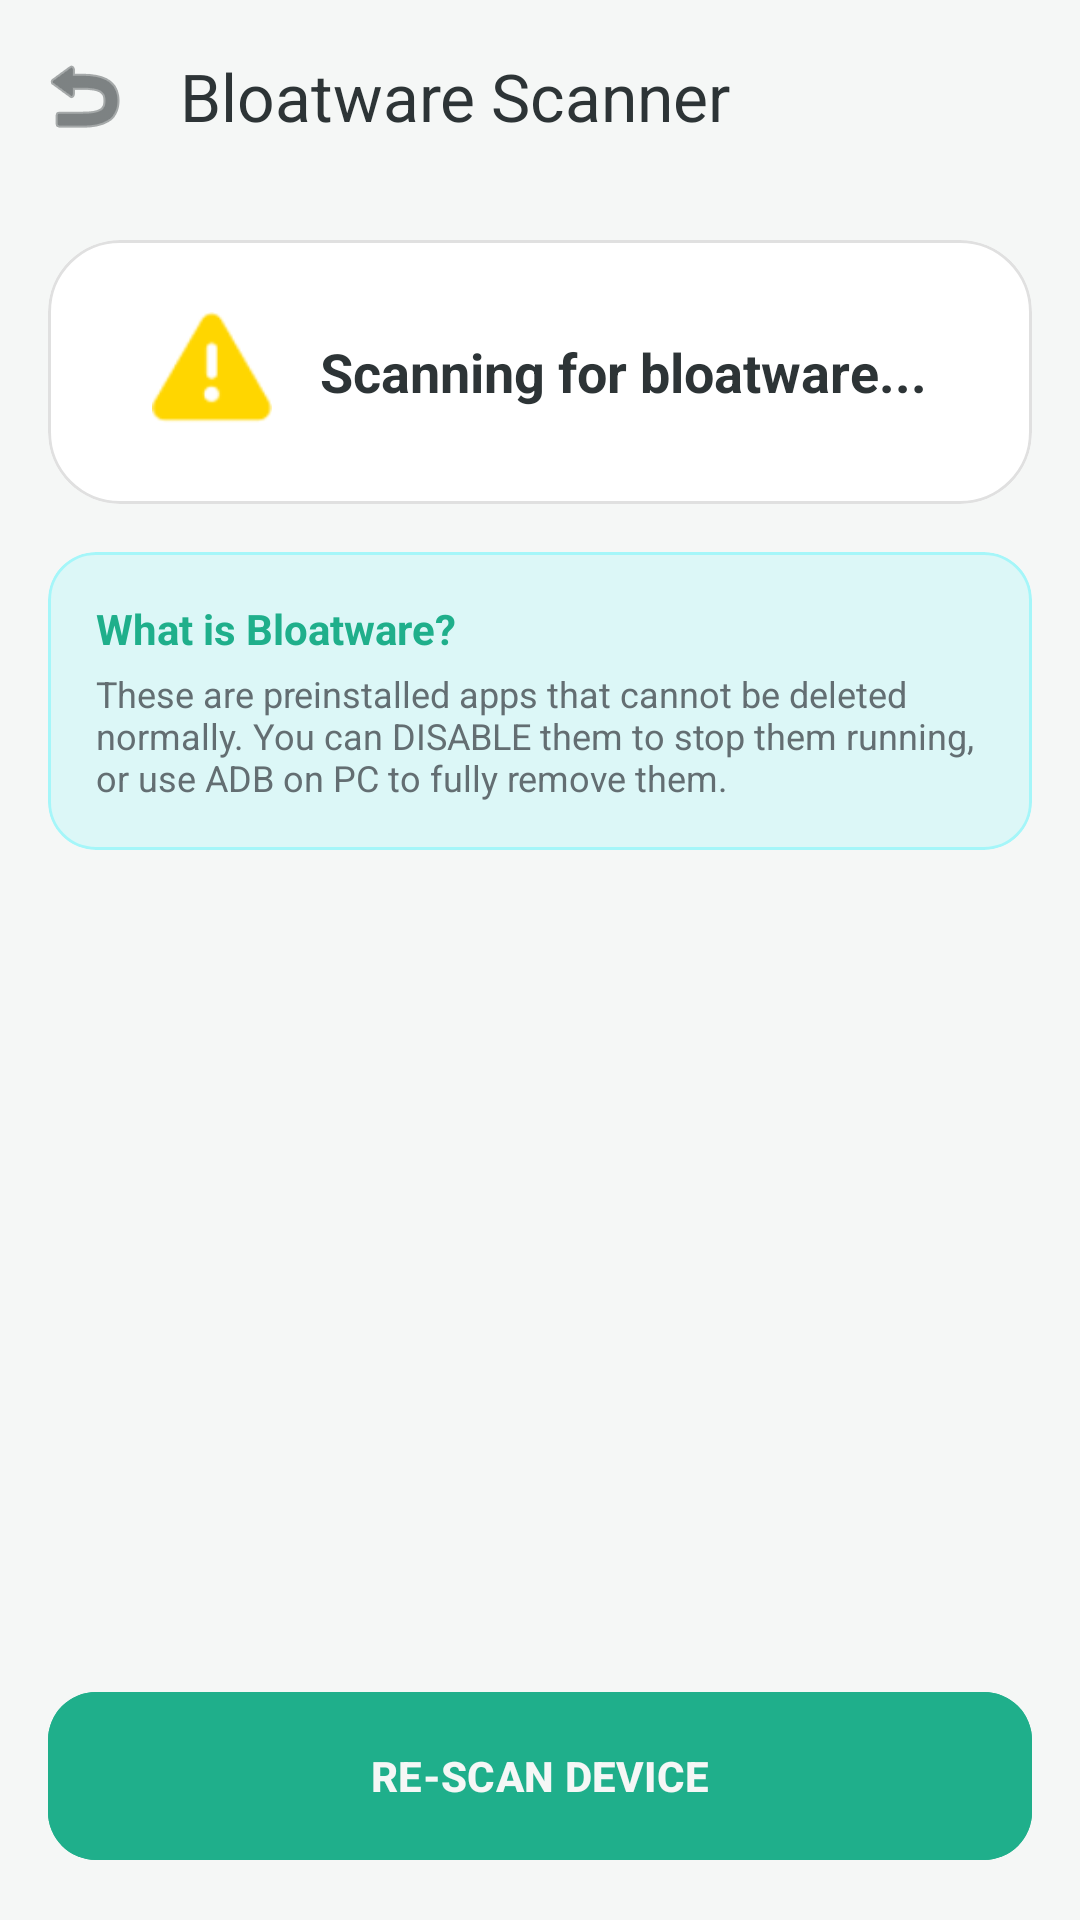

Icons on this 1080px x 1920px Android screen, each with its box as (x1, y1, x2, y2):
alert: (152, 312, 272, 422)
